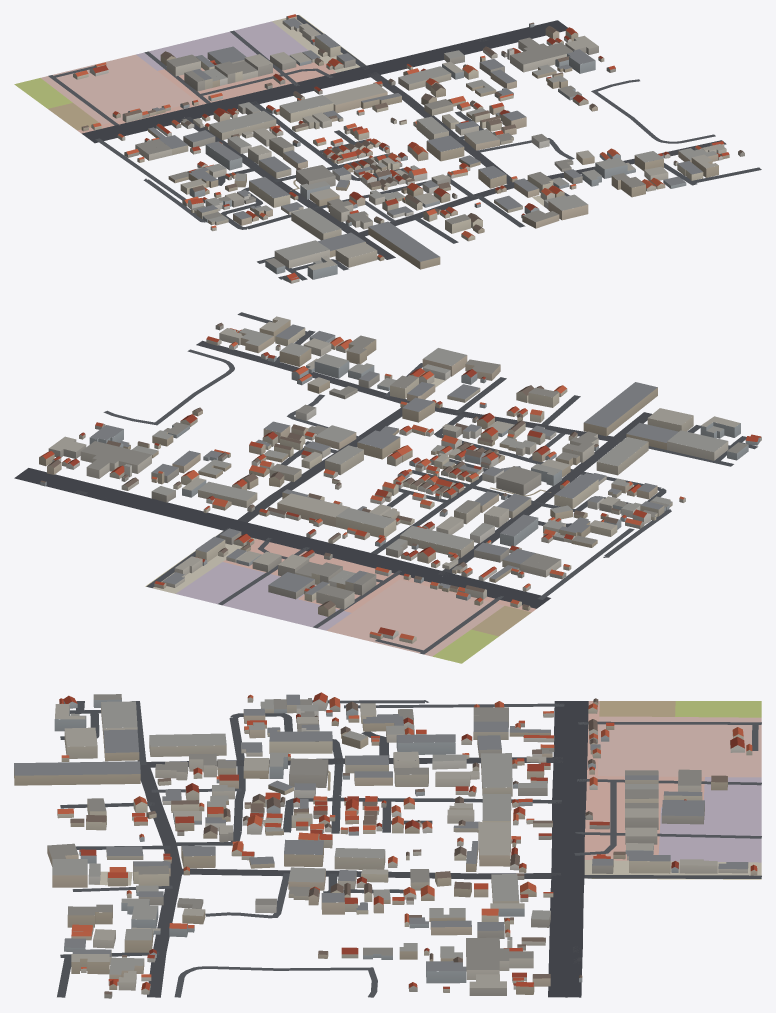
3 renders of one model, top to bottom at view 1: azimuth 30°, elevation 25°; view 2: azimuth 150°, elevation 25°; view 3: azimuth 270°, elevation 25°, orthographic. The views are drawn at different scales.
Parts seen in each view (by area): view 1: buildings_roofs, buildings_walls, roads, landuse; view 2: buildings_roofs, buildings_walls, roads, landuse; view 3: buildings_roofs, buildings_walls, roads, landuse.
Part boxes in pixels (<box>): buildings_roofs: <box>75,14,743,280</box>; buildings_walls: <box>73,16,744,283</box>; roads: <box>48,15,761,280</box>; landuse: <box>14,15,543,206</box>; buildings_roofs: <box>40,316,760,640</box>; buildings_walls: <box>39,319,761,643</box>; roads: <box>14,312,757,654</box>; landuse: <box>145,377,536,663</box>; buildings_roofs: <box>14,692,757,994</box>; buildings_walls: <box>14,697,757,998</box>; roads: <box>57,700,761,997</box>; landuse: <box>94,701,761,885</box>.
Bounding box in the file's own units: 504 × 10.62 × 533.
